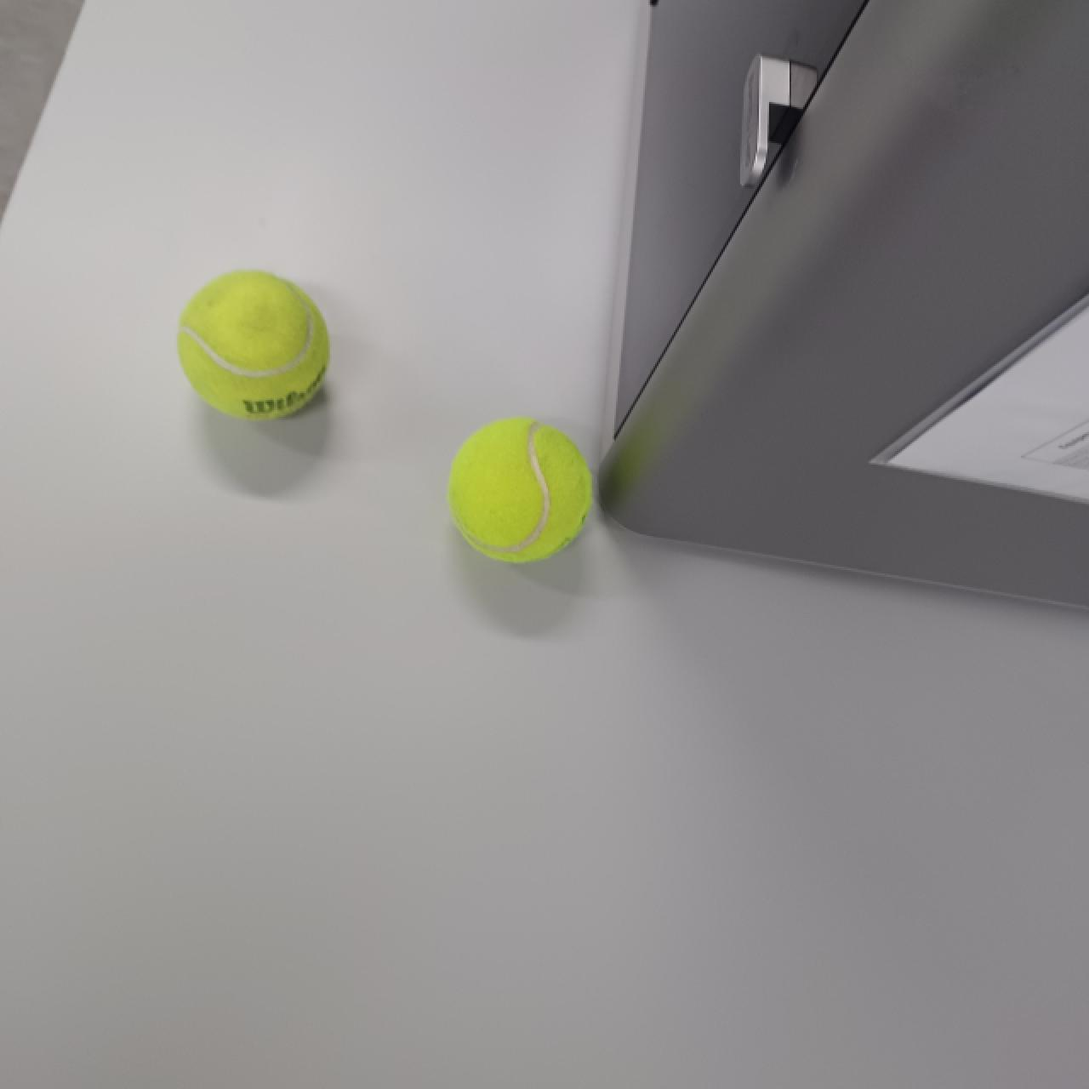tennis-ball: (175, 264, 334, 422), (447, 418, 597, 565)
